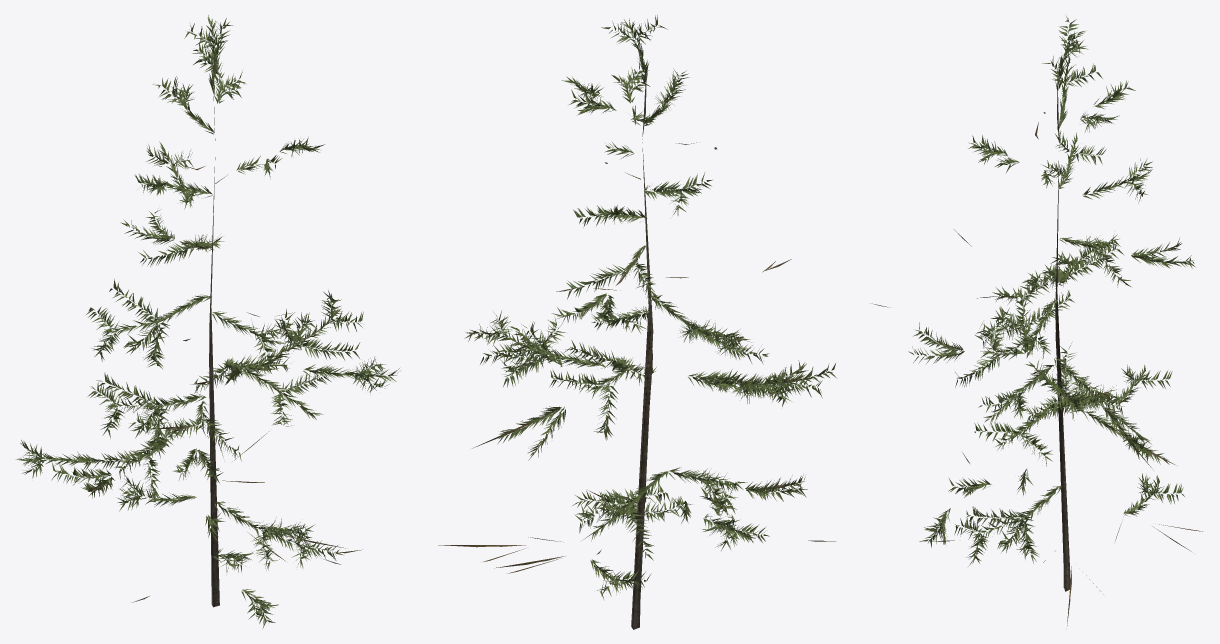
File: forest_sapling.glb
3 views of the same model, side by side, from view 1: azimuth 30°, elevation 25°; view 2: azimuth 150°, elevation 25°; view 3: azimuth 270°, elevation 25° (orthographic). The views are drawn at different scales.
Parts seen in each view (by area): view 1: fir_sapling_a; view 2: fir_sapling_a; view 3: fir_sapling_a.
Part boxes in pixels (x1=…): fir_sapling_a: x1=15, y1=15, x2=399, y2=628; fir_sapling_a: x1=438, y1=15, x2=837, y2=629; fir_sapling_a: x1=871, y1=14, x2=1202, y2=625.
Size of the model in its own units: 0.7016 by 1.22 by 0.6607.
Materials: 2 (2 with a texture image).
